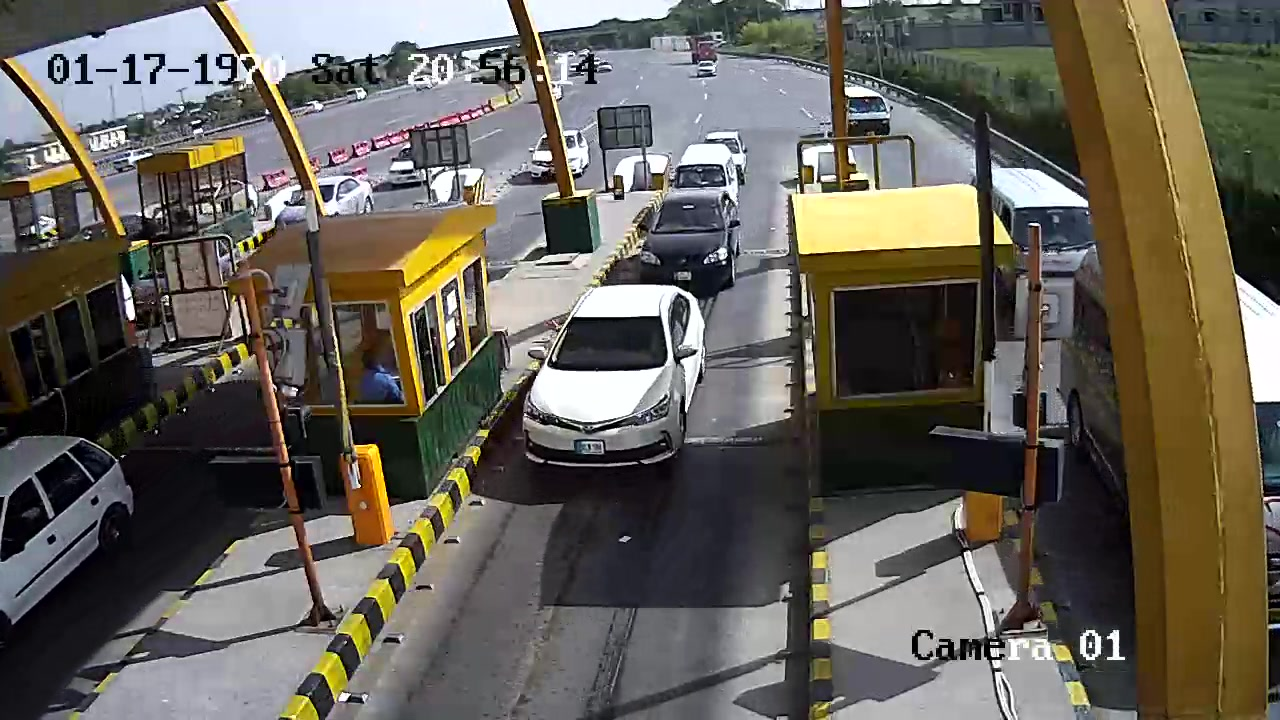F1: (514, 282, 718, 499)
